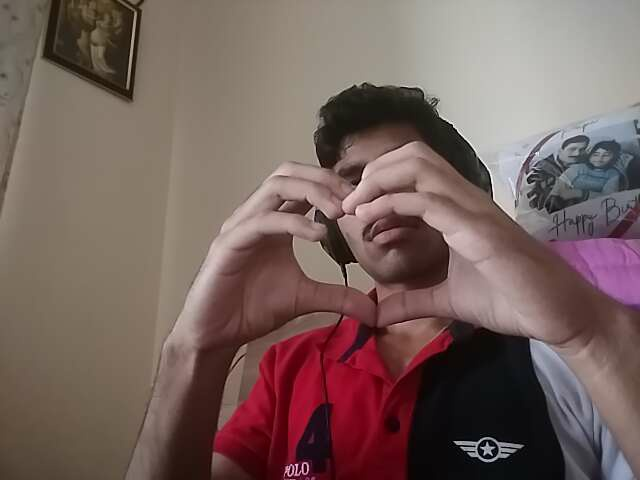I Love You: (146, 153, 580, 386)
